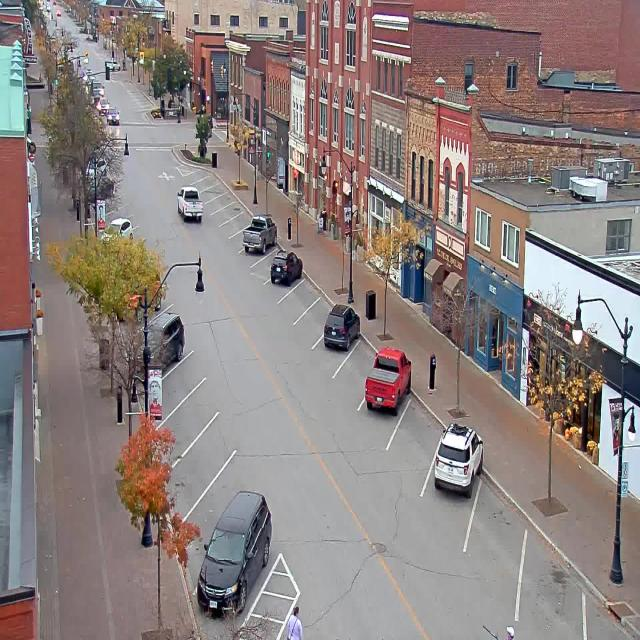available: (511, 514, 586, 634), (462, 468, 531, 576), (188, 438, 263, 533), (186, 403, 245, 487), (392, 387, 443, 464), (177, 366, 222, 440), (161, 342, 209, 402), (585, 591, 639, 640), (342, 328, 385, 386), (302, 291, 338, 338), (289, 264, 322, 310), (259, 230, 289, 267), (232, 206, 254, 231), (226, 197, 243, 222), (194, 161, 210, 179), (213, 179, 227, 199), (203, 171, 217, 191), (220, 189, 234, 207)
occupied: (196, 489, 272, 617), (434, 421, 484, 497), (364, 346, 412, 414), (142, 308, 185, 368), (323, 302, 360, 351), (242, 214, 277, 254), (270, 250, 303, 286)
